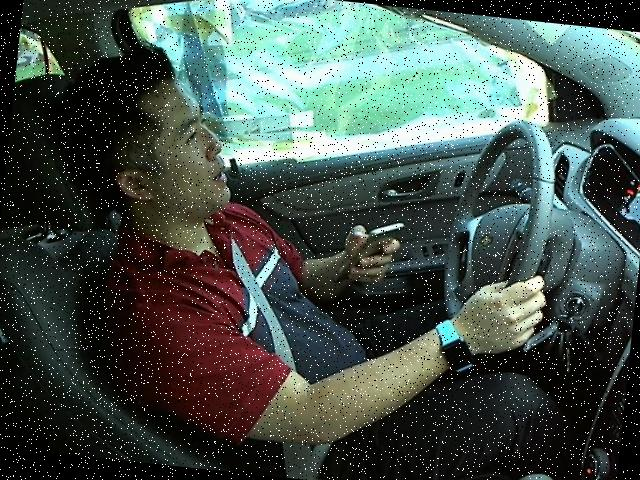c1 - Texting: (15, 36, 574, 468)
